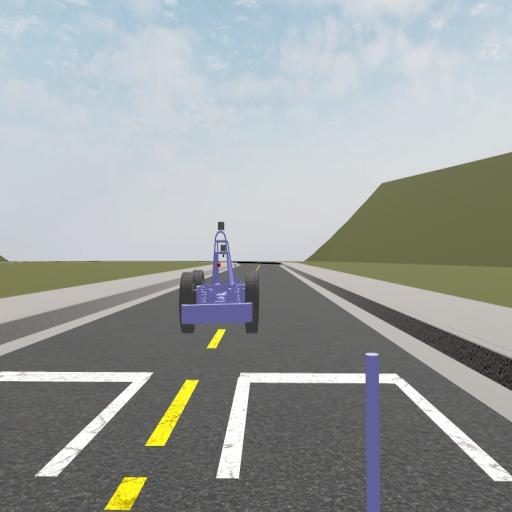ERP-42: (181, 222, 260, 333)
